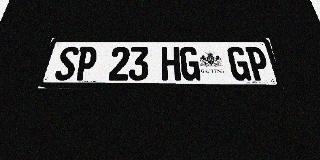2: (108, 47, 130, 80)
3: (128, 47, 148, 80)
G: (227, 47, 251, 80), (180, 47, 201, 80)
H: (161, 47, 181, 80)
P: (245, 47, 271, 80), (73, 47, 98, 80)
S: (53, 46, 80, 80)
